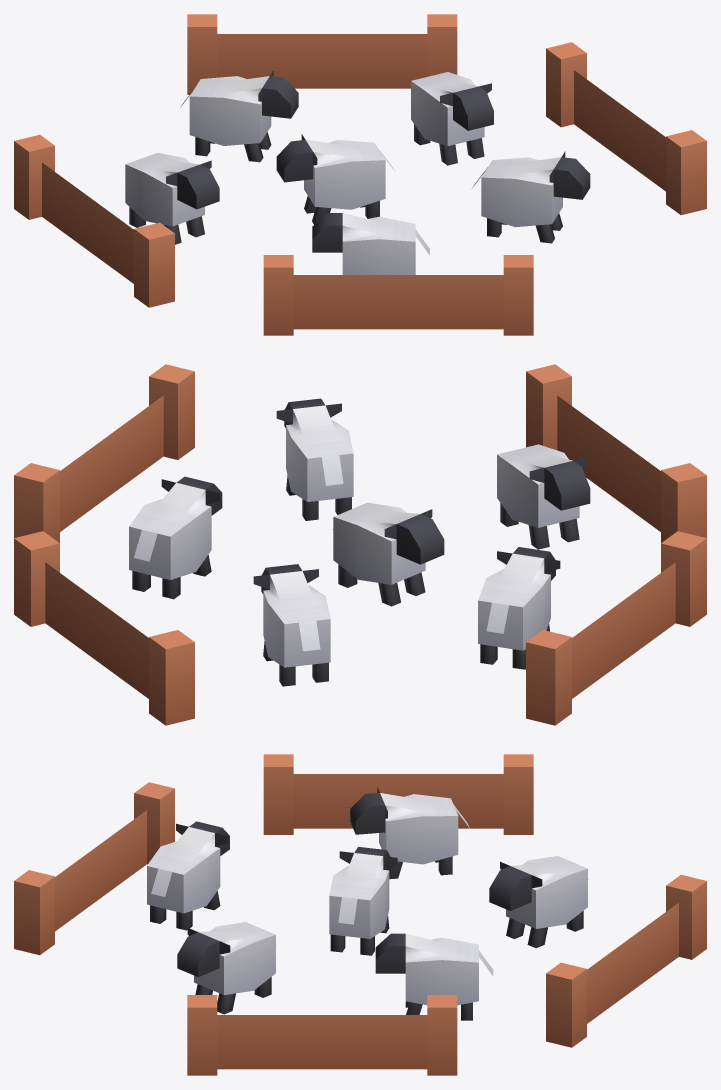
Rendered from sheep.fbx.
3 renders of one model, top to bottom at view 1: azimuth 30°, elevation 25°; view 2: azimuth 150°, elevation 25°; view 3: azimuth 270°, elevation 25°, orthographic. The views are drawn at different scales.
Parts seen in each view (by area): view 1: building_sheep; view 2: building_sheep; view 3: building_sheep.
Boxes of the visible parts, bbox=[...] form: building_sheep: bbox=[14, 14, 706, 335]; building_sheep: bbox=[14, 364, 706, 725]; building_sheep: bbox=[14, 754, 706, 1075].
Size of the model in its own units: 100 by 13.15 by 115.
